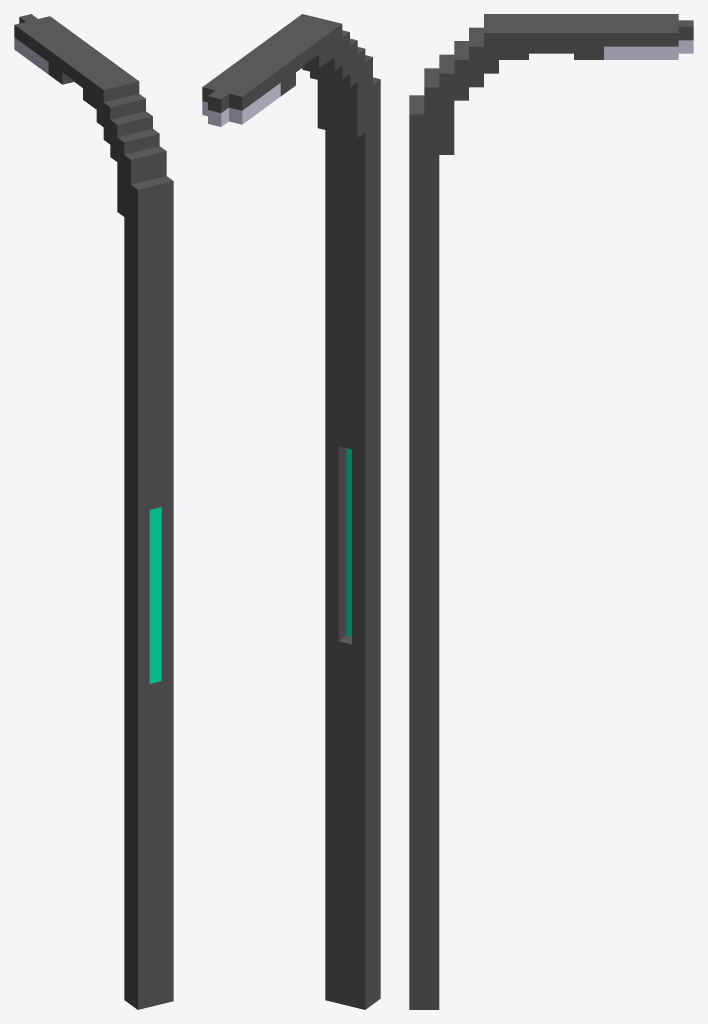
Rendered from MapV3-1.obj.
3 views of the same model, side by side, from view 1: azimuth 30°, elevation 25°; view 2: azimuth 150°, elevation 25°; view 3: azimuth 270°, elevation 25° (orthographic). The views are drawn at different scales.
Size of the model in its own units: 0.3 by 7.2 by 1.9.
1 material, 1 textured.
